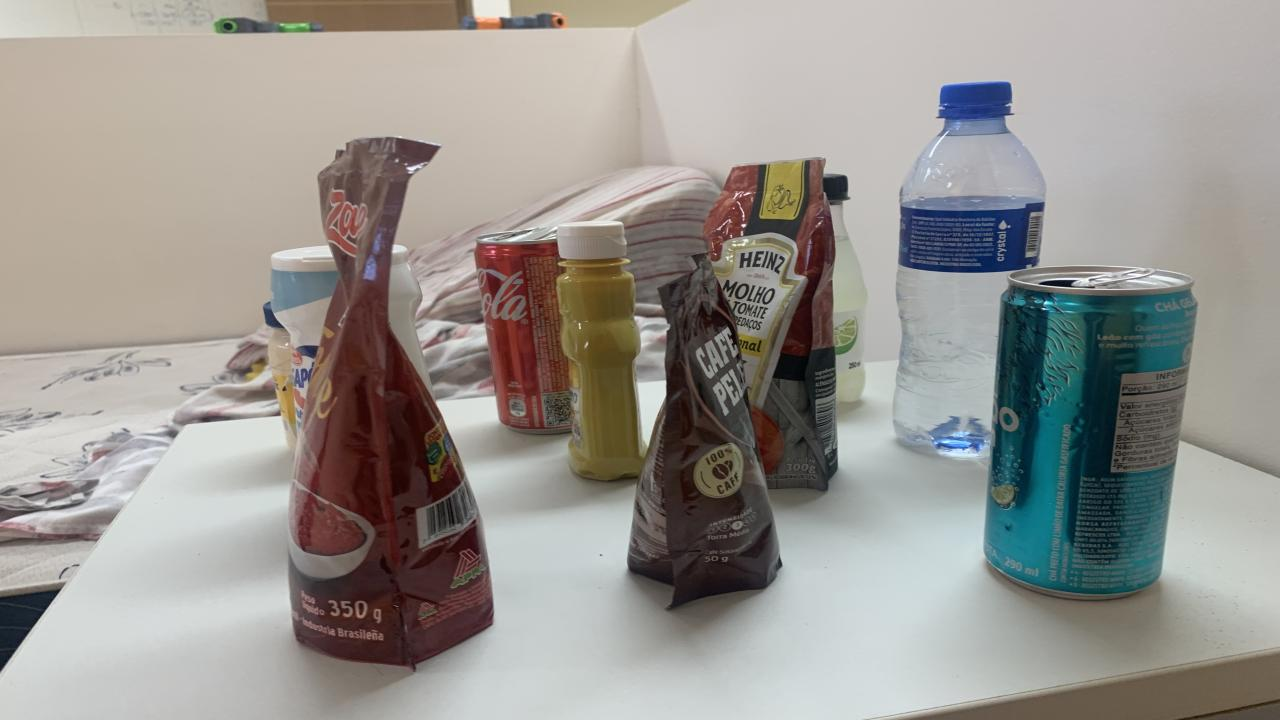Cleaner-Cleanup_Items: (270, 246, 340, 420), (390, 246, 430, 386)
Coffee-Pantry_Items: (628, 253, 782, 608)
Coke-Drinks: (475, 227, 570, 433)
Mustard-Pantry_Items: (558, 221, 645, 480)
Soda-Drinks: (830, 199, 868, 403), (822, 174, 845, 195)
Tea-Drinks: (985, 266, 1198, 600)
Tomato_Sauce-Pantry_Items: (288, 137, 492, 668), (702, 158, 838, 489)
Water_Bottle-Drinks: (892, 82, 1045, 458)
